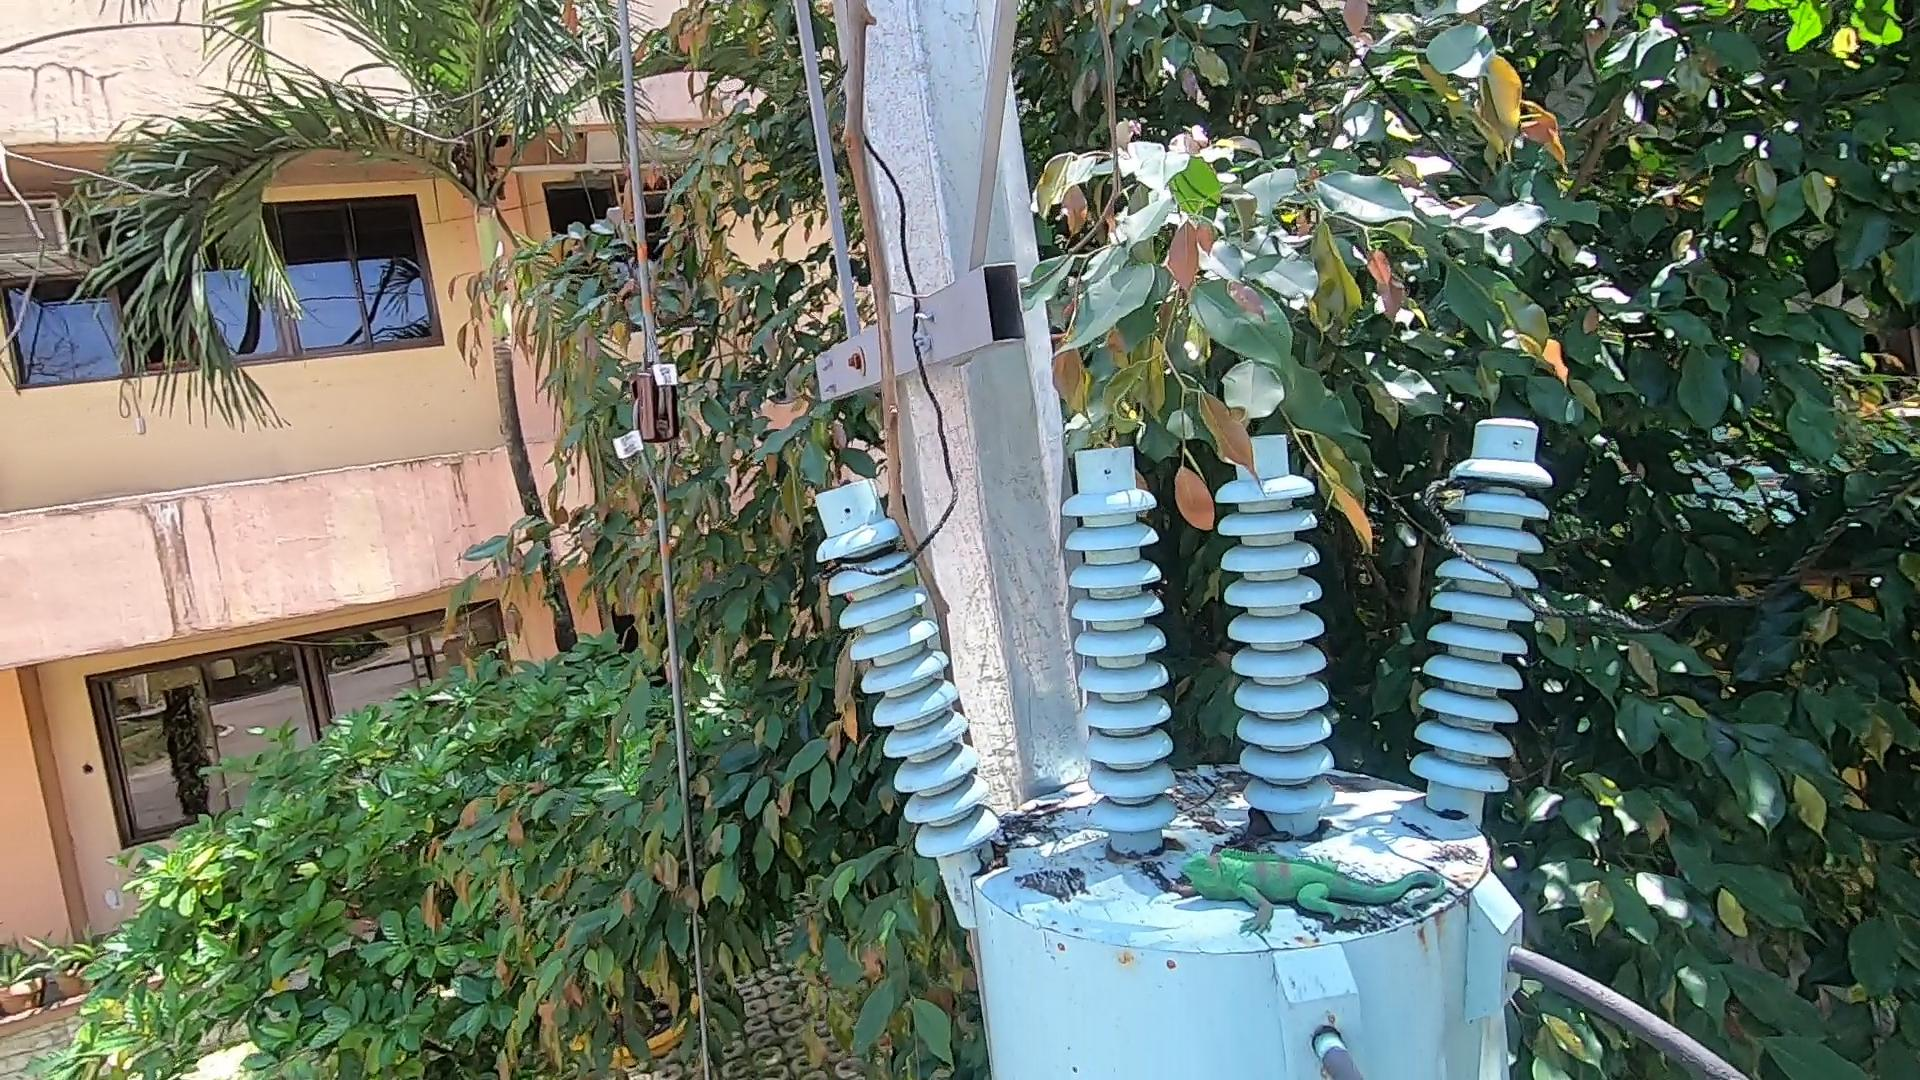branch with leaves: (1122, 353, 1385, 550)
leaf: (1224, 812, 1302, 858), (975, 833, 1025, 877)
tree branch: (796, 5, 982, 657)
